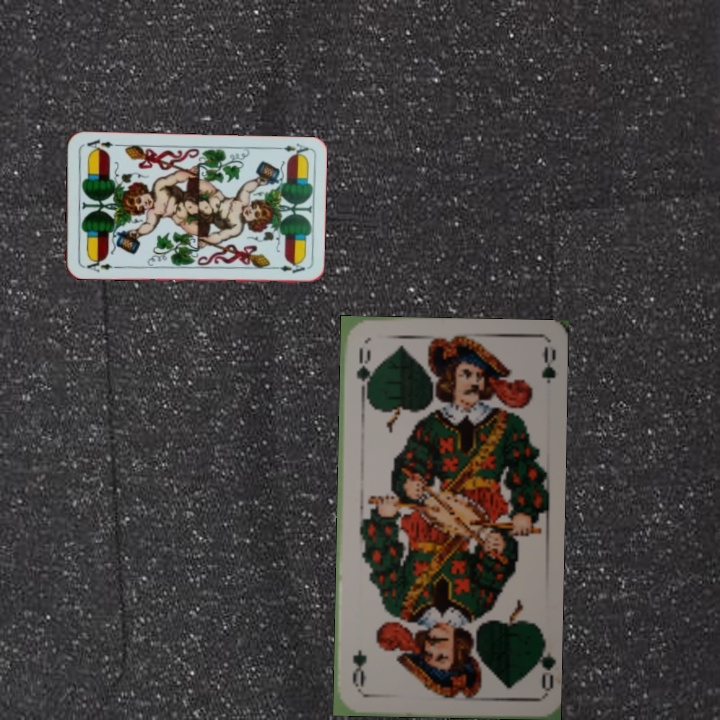EA: (79, 255, 120, 275), (270, 139, 311, 159)
GO: (526, 634, 554, 694), (352, 344, 374, 400)
